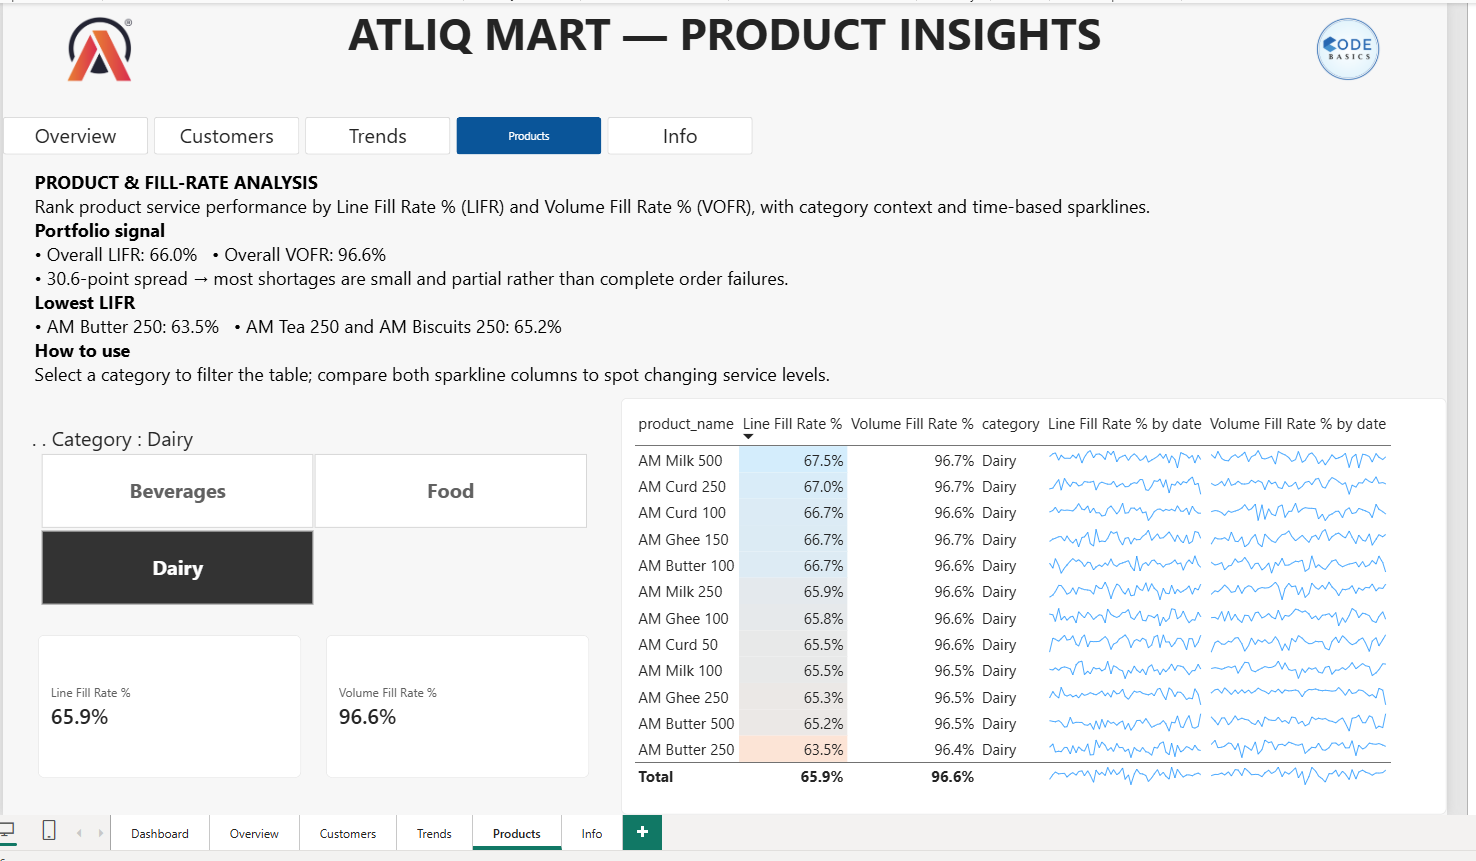

The dashboard page shown, as its layout file describes it:
{"tool":"powerbi","page":{"name":"Products","canvas":[1920,1080],"ordinal":4},"visuals":[{"type":"image","box":[0,16.9,259.7,87],"z":0},{"type":"image","box":[1658.4,16.9,261,88.3],"z":1000},{"type":"textbox","box":[0,0,1920,122.9],"z":2000},{"type":"textbox","box":[0,201.6,1920,314.9],"z":3000},{"type":"tableEx","fields":{"Values":["dim_products.product_name","Measures table.Line Fill Rate %","Measures table.Volume Fill Rate %","dim_products.category","SparklineData(Measures table.Line Fill Rate %_[dim_date.date])","SparklineData(Measures table.Volume Fill Rate %_[dim_date.date])"]},"box":[822,526.7,1098.4,553.7],"z":4000},{"type":"pageNavigator","box":[0,151.5,1000,50],"z":5000},{"type":"cardVisual","fields":{"Data":["Measures table.Line Fill Rate %"]},"box":[46.6,841,350,190.2],"z":6000},{"type":"cardVisual","fields":{"Data":["Measures table.Volume Fill Rate %"]},"box":[429.5,841,350,190.2],"z":7000},{"type":"slicer","fields":{"Values":["dim_products.category"]},"box":[31.1,560.2,764.6,241.9],"z":8000}]}

Visuals, with their boxes on the page's 1920x1080 design canvas (x1, y1, x2, y2). These are canvas units, not pixel positions in the 1476x861 screenshot, which may show the page scaled, cropped or inside an application window:
image: 0:17:260:104
image: 1658:17:1919:105
textbox: 0:0:1920:123
textbox: 0:202:1920:516
tableEx - dim_products.product_name x Measures table.Line Fill Rate %: 822:527:1920:1080
pageNavigator: 0:152:1000:202
cardVisual - Measures table.Line Fill Rate %: 47:841:397:1031
cardVisual - Measures table.Volume Fill Rate %: 430:841:780:1031
slicer - dim_products.category: 31:560:796:802
